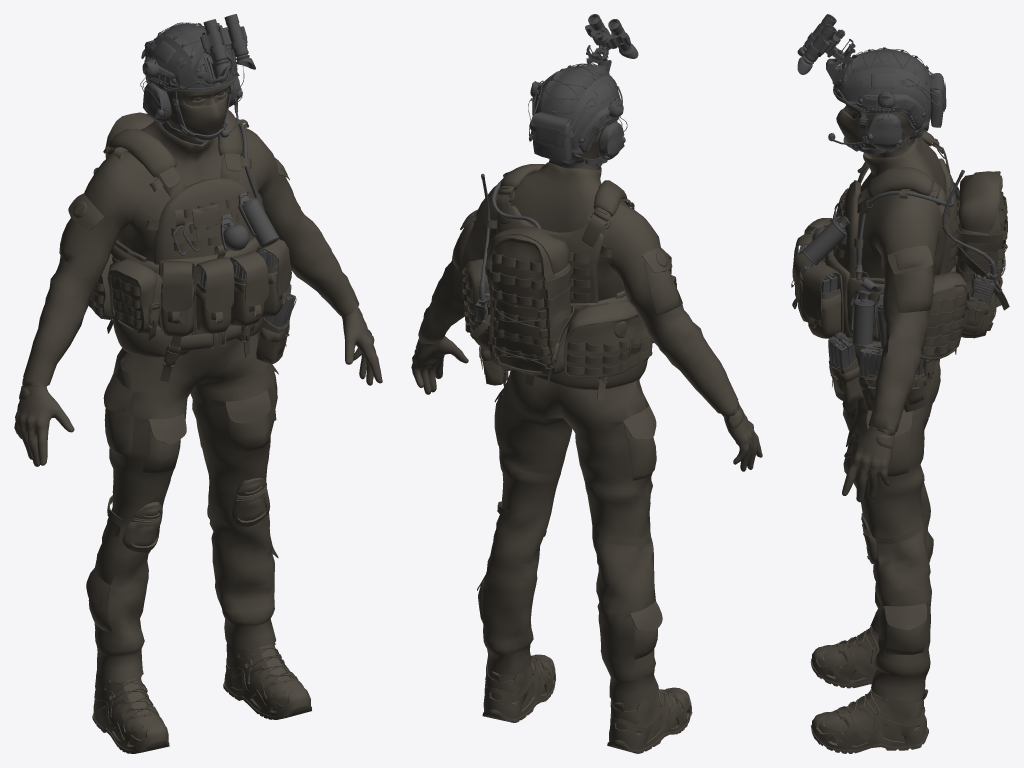
File: infantry.glb
3 renders of one model, left to right at view 1: azimuth 30°, elevation 25°; view 2: azimuth 150°, elevation 25°; view 3: azimuth 270°, elevation 25°, orthographic. The views are drawn at different scales.
Visible parts, largest first — view 1: Object_5, Object_7; view 2: Object_5, Object_7; view 3: Object_5, Object_7.
Boxes of the visible parts, x1,y1,x2,y2 form: Object_5: (14, 86, 382, 753); Object_7: (140, 14, 295, 327); Object_5: (411, 130, 762, 753); Object_7: (475, 14, 638, 320); Object_5: (791, 104, 1009, 753); Object_7: (797, 14, 997, 376).
Size of the model in its own units: 1.03 by 2 by 0.573.
Materials: 2 (2 with a texture image).
